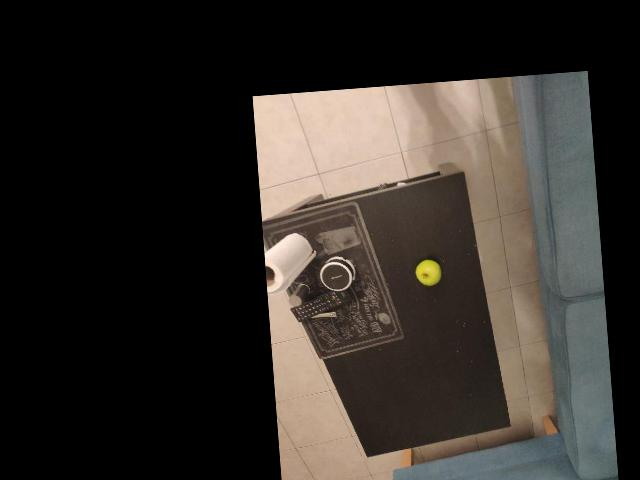apple: (295, 340, 379, 406)
